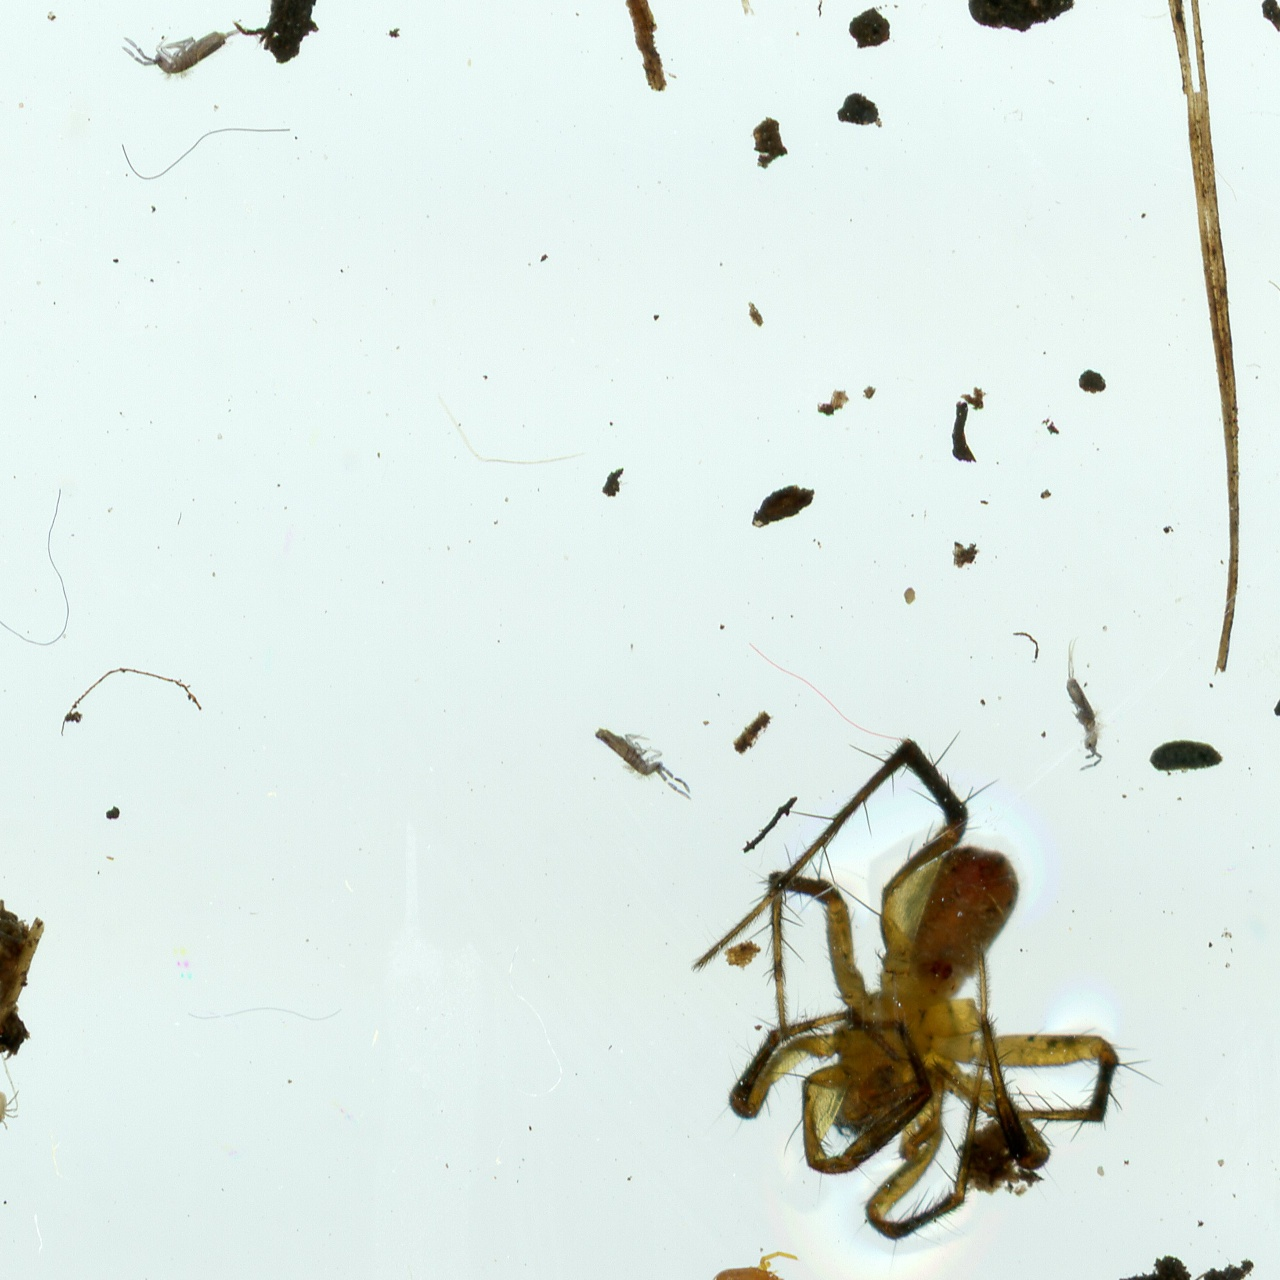arthropod: (680, 730, 1168, 1273), (554, 679, 721, 822), (113, 23, 260, 87), (1054, 624, 1112, 782), (700, 1249, 798, 1280), (0, 1088, 22, 1131)
